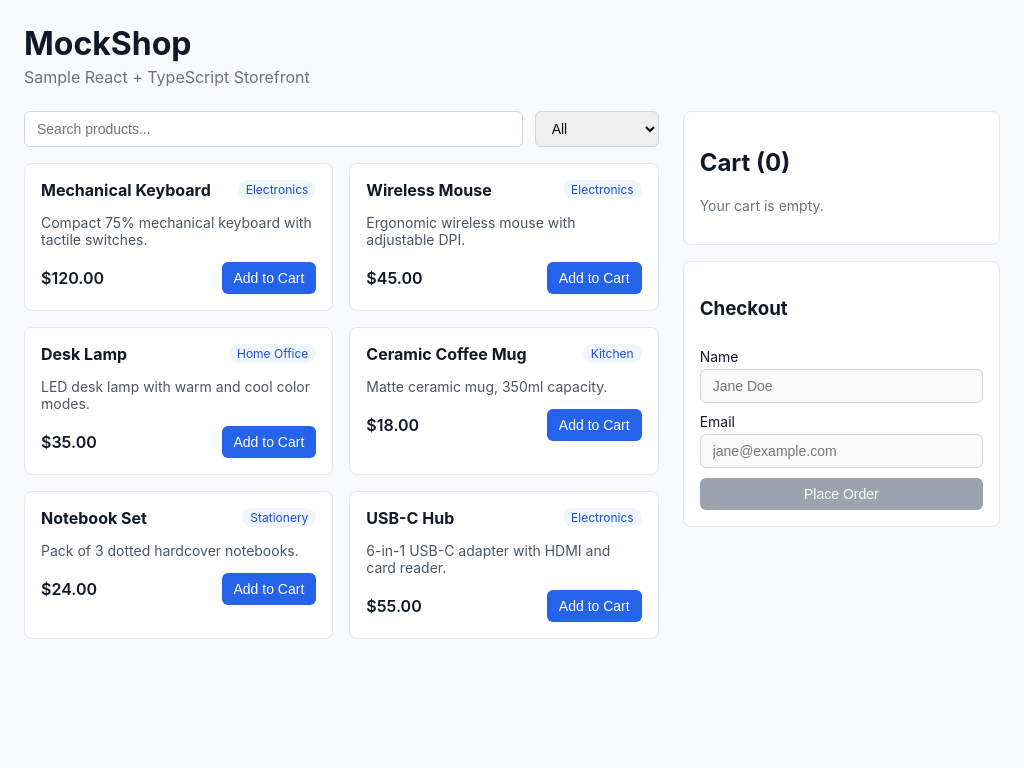
Scenario: MockShop App › renders products and filters by search query
This screenshot has width=1024, height=768.
Expected: the heading "Mechanical Keyboard" is shown, [41,180,211,200]
Expected: the heading "Desk Lamp" is shown, [41,344,127,364]
Step 1. Type "lamp" into the search field labelled "Search products" → (273, 129), box [24,111,523,147]
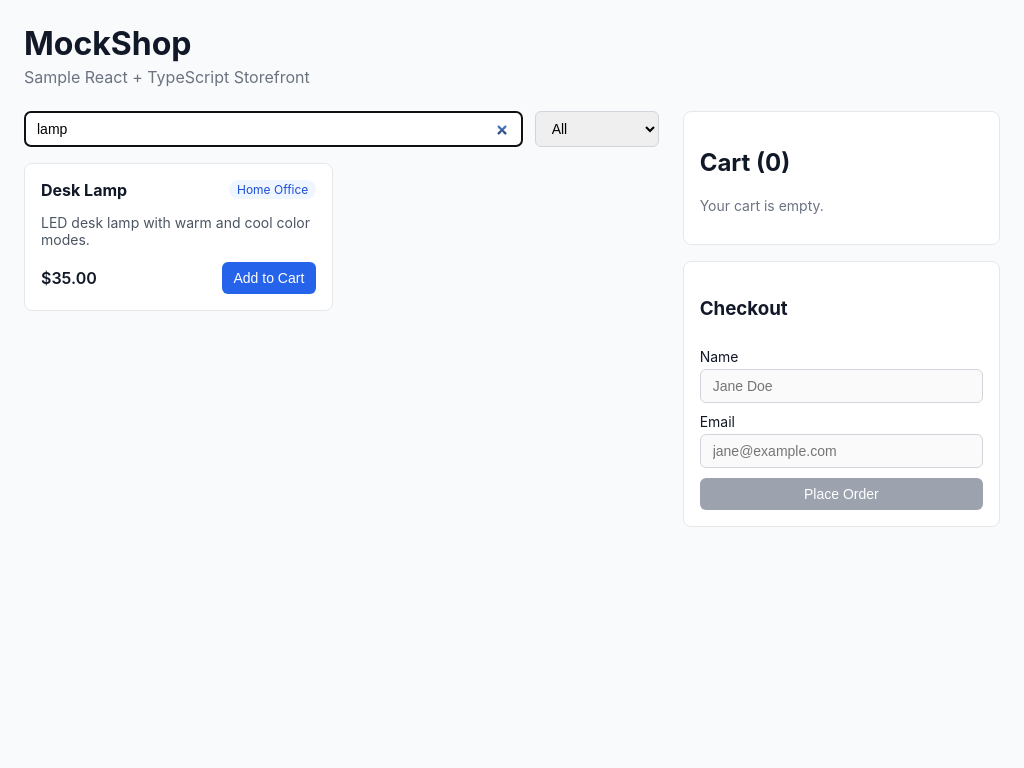
Expected: the heading "Desk Lamp" is shown, [41,180,127,200]
Result: the heading "Mechanical Keyboard" is gone
Step 2. Replace the text in the search field named "Search products" with "nonexistent-item-xyz" → (273, 129), box [24,111,523,147]
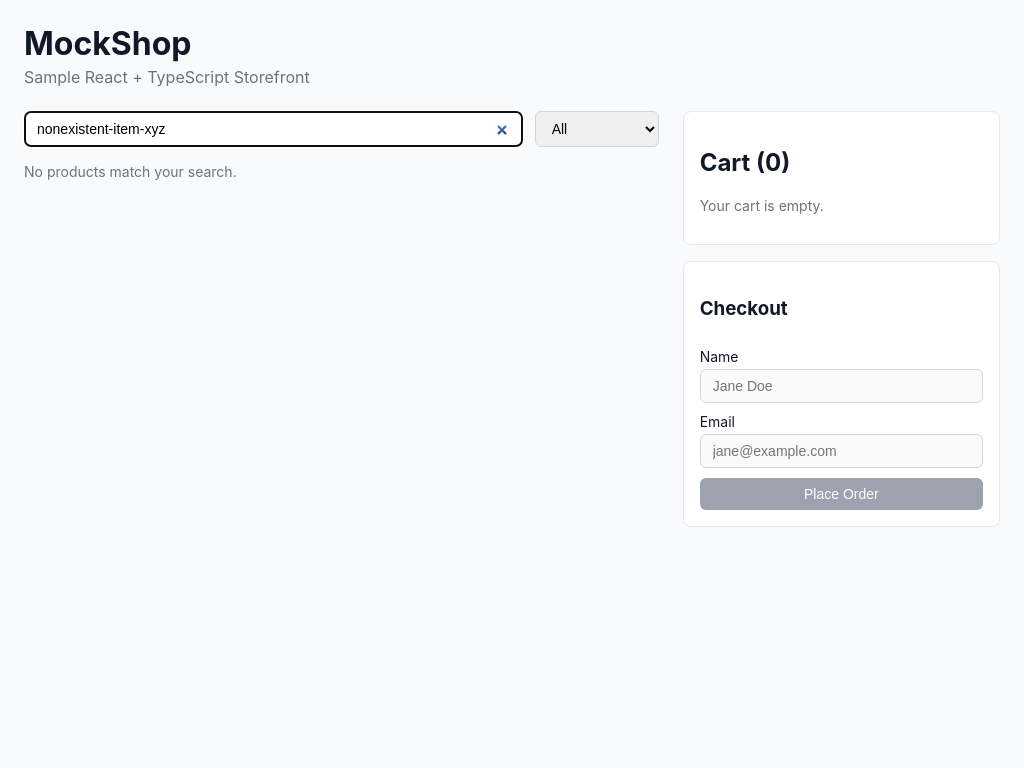
Result: the text "No products match your search." is shown at [24,163,237,180]
